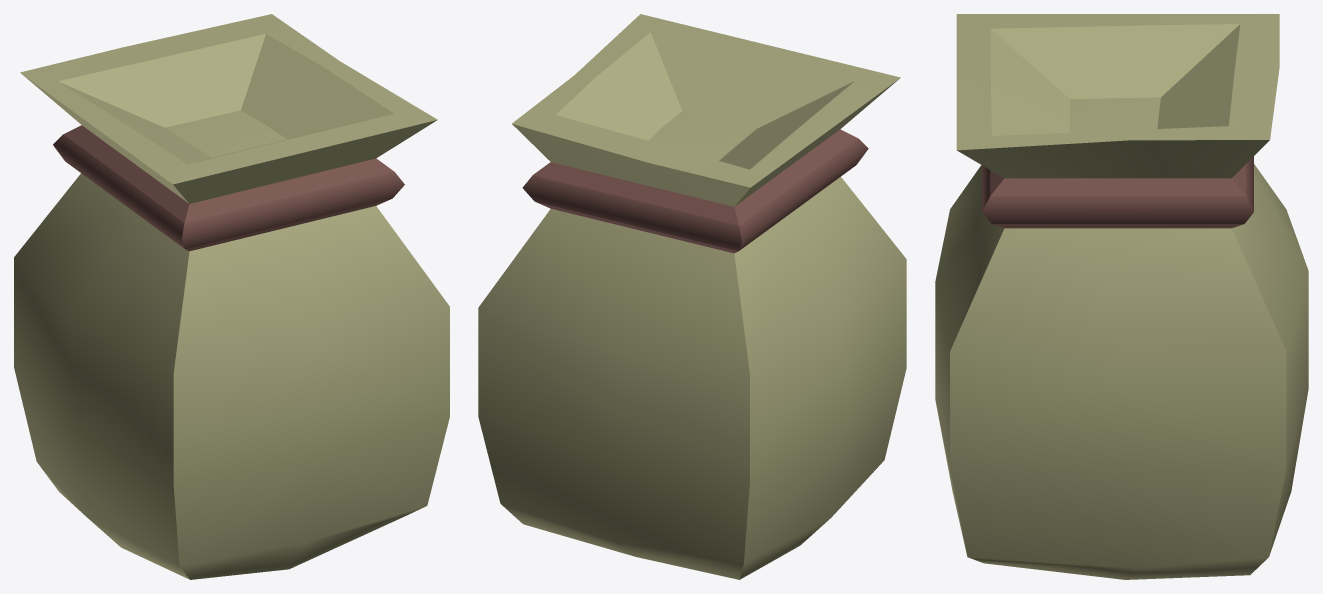
File: coinbag.fbx
3 views of the same model, side by side, from view 1: azimuth 30°, elevation 25°; view 2: azimuth 150°, elevation 25°; view 3: azimuth 270°, elevation 25° (orthographic). The views are drawn at different scales.
Parts seen in each view (by area): view 1: coinbag; view 2: coinbag; view 3: coinbag.
Boxes of the visible parts, x1,y1,x2,y2 form: coinbag: (14, 14, 449, 579); coinbag: (478, 14, 906, 579); coinbag: (935, 14, 1308, 579).
Size of the model in its own units: 0.573 by 0.8329 by 0.5709.
